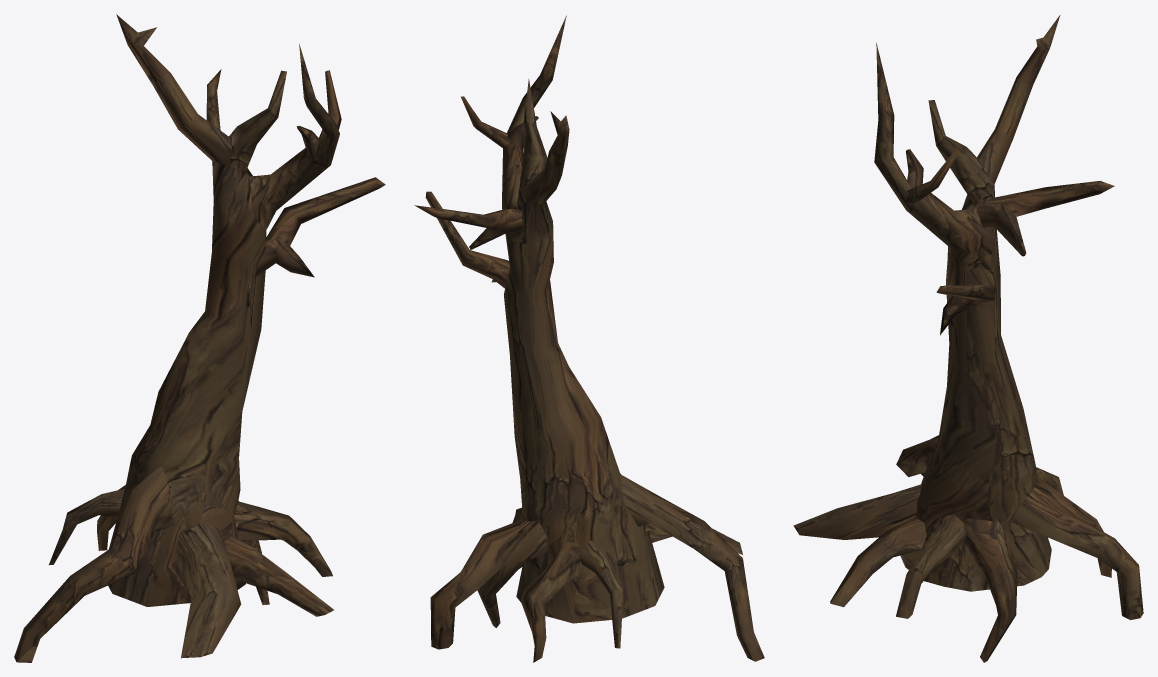
Rendered from 2_Plant_ShuGen_03.FBX.
3 views of the same model, side by side, from view 1: azimuth 30°, elevation 25°; view 2: azimuth 150°, elevation 25°; view 3: azimuth 270°, elevation 25° (orthographic). The views are drawn at different scales.
Visible parts, largest first — view 1: 2_Plant_ShuGen_03; view 2: 2_Plant_ShuGen_03; view 3: 2_Plant_ShuGen_03.
Boxes of the visible parts, x1,y1,x2,y2 form: 2_Plant_ShuGen_03: (14, 14, 385, 662); 2_Plant_ShuGen_03: (414, 15, 764, 662); 2_Plant_ShuGen_03: (793, 15, 1143, 662).
Size of the model in its own units: 605 by 972 by 506.
